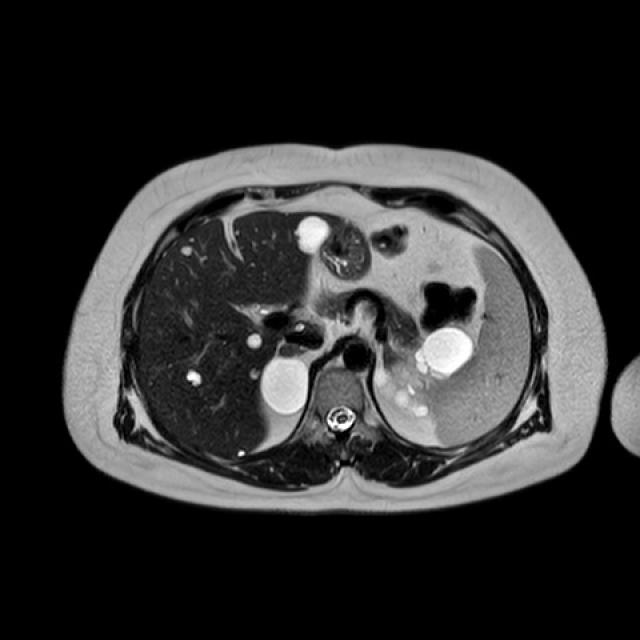sag: (261, 357, 309, 417)
sol: (371, 326, 475, 420)
